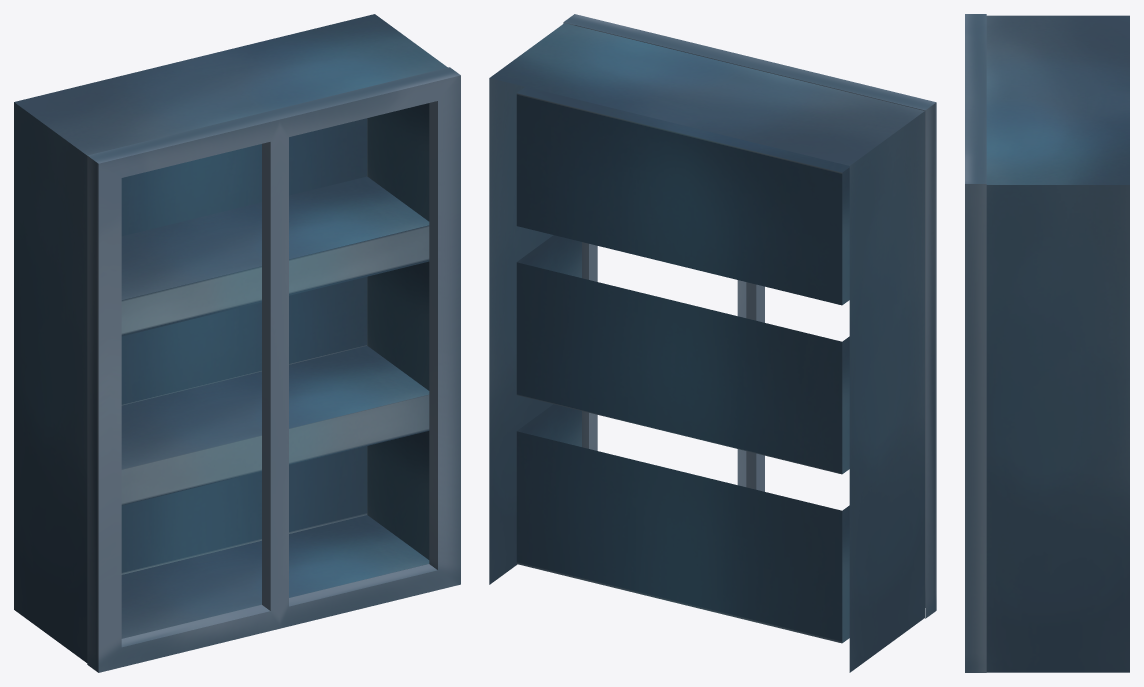
The model's file is SM_showcase.FBX.
The picture shows the model from 3 angles, left to right: view 1: azimuth 30°, elevation 25°; view 2: azimuth 150°, elevation 25°; view 3: azimuth 270°, elevation 25°; orthographic projection. The views are drawn at different scales.
Parts seen in each view (by area): view 1: showcase; view 2: showcase; view 3: showcase.
Boxes of the visible parts, bbox=[...] form: showcase: bbox=[14, 14, 460, 672]; showcase: bbox=[489, 14, 936, 672]; showcase: bbox=[965, 14, 1129, 672].
Size of the model in its own units: 729 by 979 by 299.
1 material, 1 textured.
